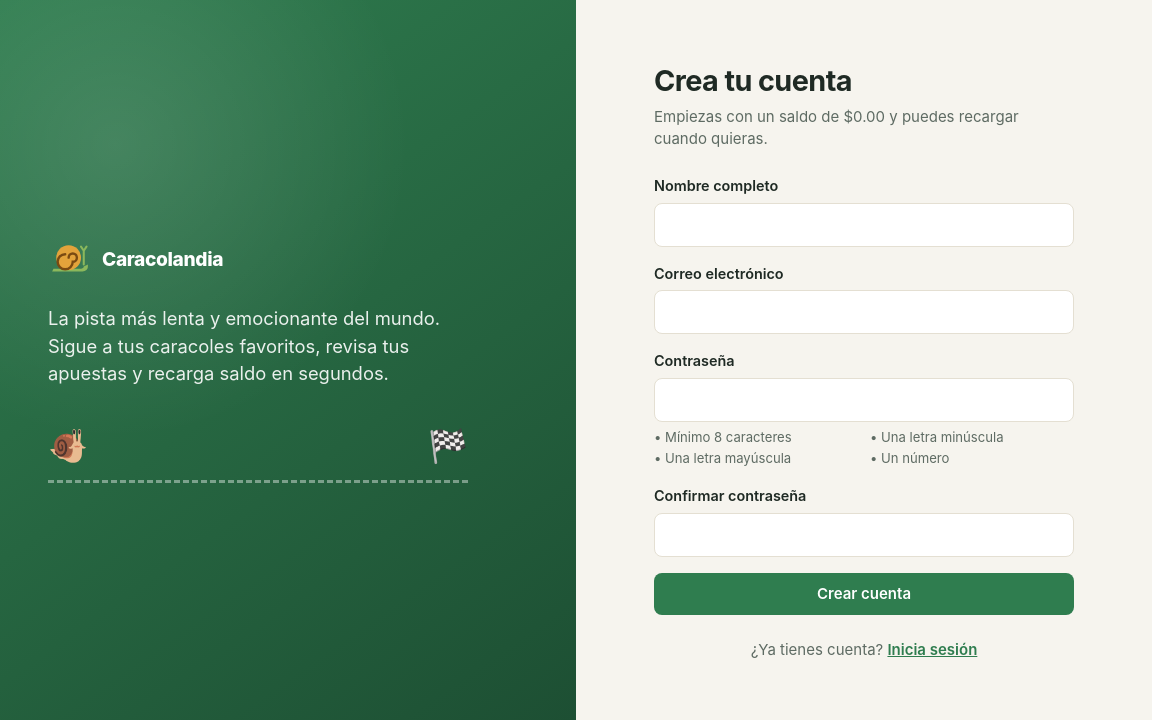
Scenario: flujo de autenticación › muestra errores de validación sin registrar al usuario
Click the button "Crear cuenta": coordinates (864, 594) [654,573,1074,615]
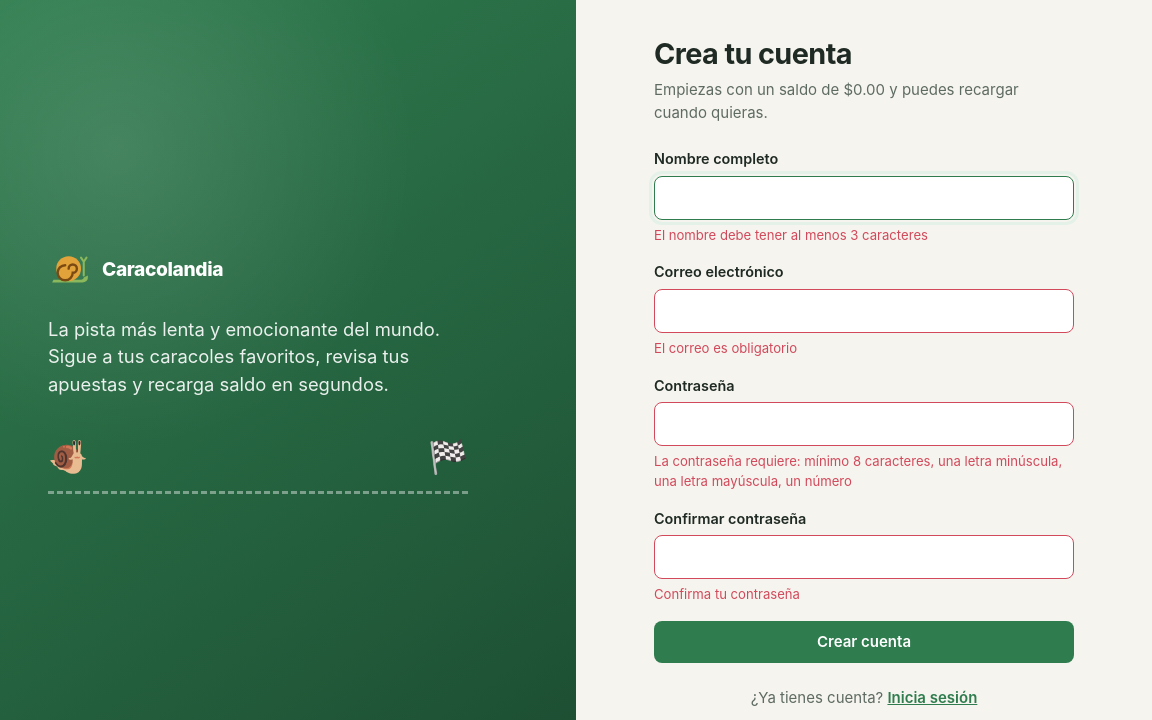
Now the text "El nombre debe tener al menos 3 caracteres" is shown, box [654,227,928,243]
Now the text "El correo es obligatorio" is shown, box [654,340,797,356]
